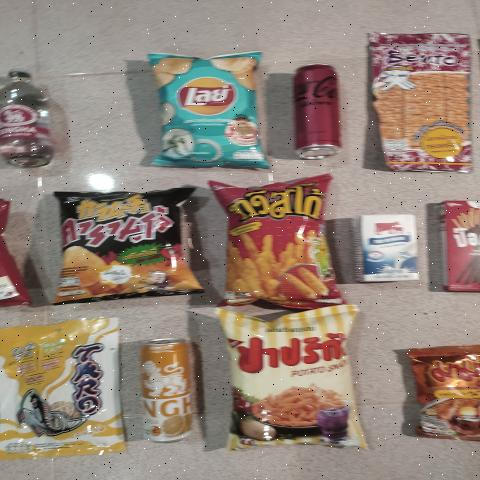bento_red: (374, 34, 473, 175)
coke_red: (293, 61, 340, 160)
karamujo: (60, 192, 194, 292)
lay_blue: (160, 58, 255, 160)
paprika: (232, 319, 354, 453)
singha_soda: (0, 63, 62, 168)
singha_yellow: (134, 338, 202, 444)
taro_yellow: (2, 318, 114, 460)
thai_denmark: (360, 222, 420, 281)
twisco: (228, 183, 333, 300)
